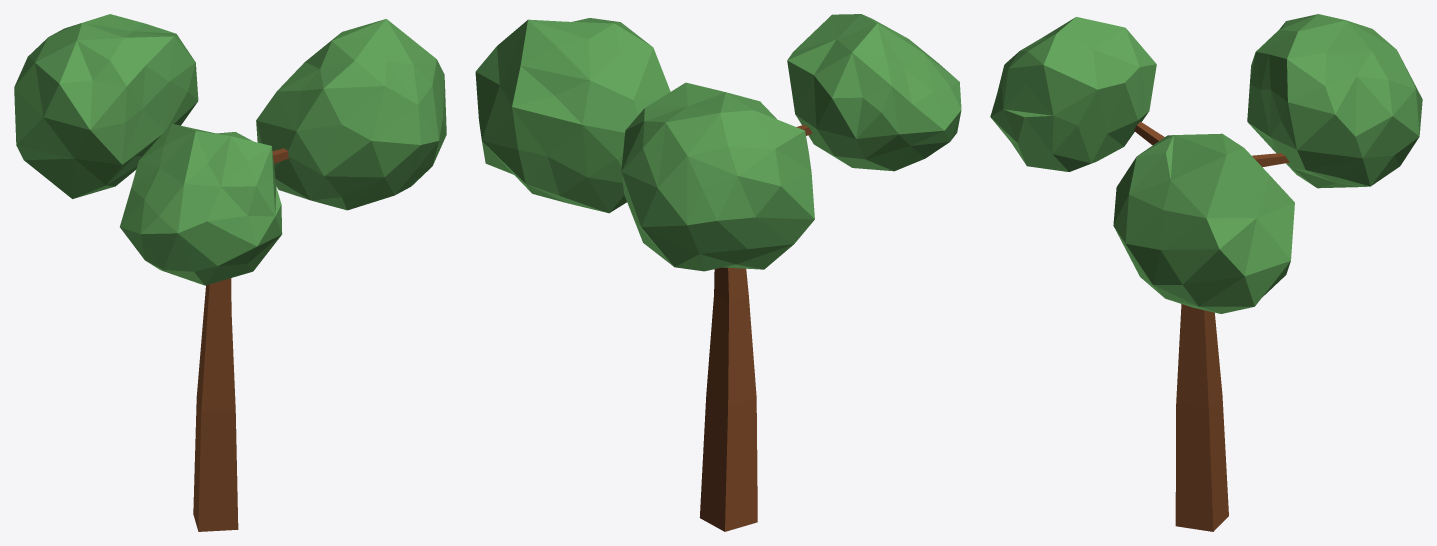
File: tree.gltf
The picture shows the model from 3 angles, left to right: view 1: azimuth 30°, elevation 25°; view 2: azimuth 150°, elevation 25°; view 3: azimuth 270°, elevation 25°; orthographic projection. The views are drawn at different scales.
Visible parts, largest first — view 1: Icosphere.002, Icosphere, Icosphere.001, Cube; view 2: Icosphere, Icosphere.002, Icosphere.001, Cube; view 3: Icosphere.002, Icosphere, Icosphere.001, Cube.
Boxes of the visible parts, x1=… form: Icosphere.002: x1=256, y1=19, x2=446, y2=210; Icosphere: x1=14, y1=14, x2=198, y2=198; Icosphere.001: x1=120, y1=124, x2=282, y2=285; Cube: x1=193, y1=148, x2=289, y2=531; Icosphere: x1=621, y1=82, x2=814, y2=271; Icosphere.002: x1=475, y1=18, x2=670, y2=213; Icosphere.001: x1=787, y1=14, x2=961, y2=171; Cube: x1=699, y1=125, x2=812, y2=531; Icosphere.002: x1=1113, y1=133, x2=1294, y2=313; Icosphere: x1=1247, y1=14, x2=1422, y2=188; Icosphere.001: x1=990, y1=17, x2=1156, y2=171; Cube: x1=1134, y1=121, x2=1289, y2=531.
Bounding box in the file's own units: 2.19 × 2.49 × 2.07.
